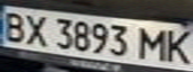3: (109, 21, 136, 59), (48, 16, 75, 51)
8: (69, 18, 93, 53)
9: (87, 20, 112, 56)
B: (0, 8, 30, 43)
K: (160, 27, 193, 65)
M: (136, 25, 172, 62)
X: (21, 11, 51, 47)
